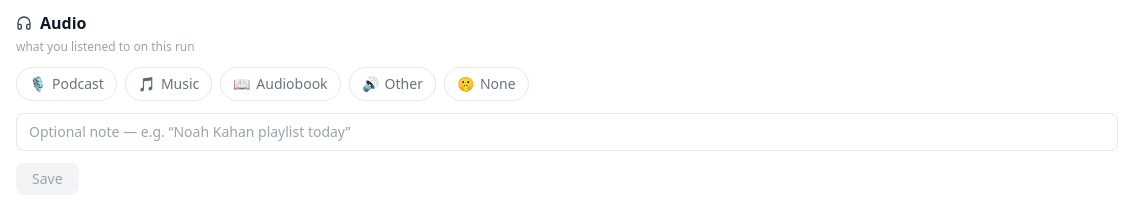
AudioLog › Save is disabled until something changes
This screenshot has width=1135, height=212.
Expected: the button "Save" is disabled, [16, 163, 79, 195]
Click the button "🎙️ Podcast" at (66, 84), box [16, 67, 117, 101]
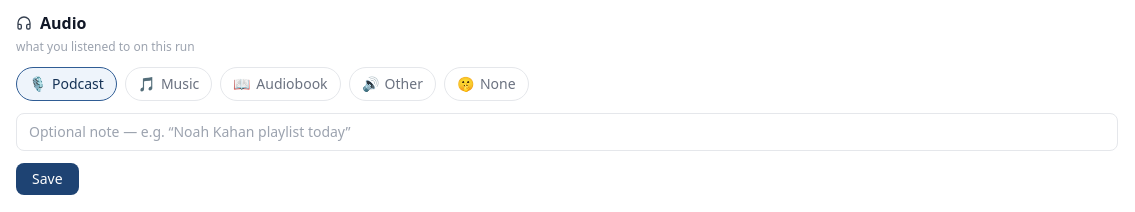
Expected: the button "Save" is enabled, [16, 163, 79, 195]
